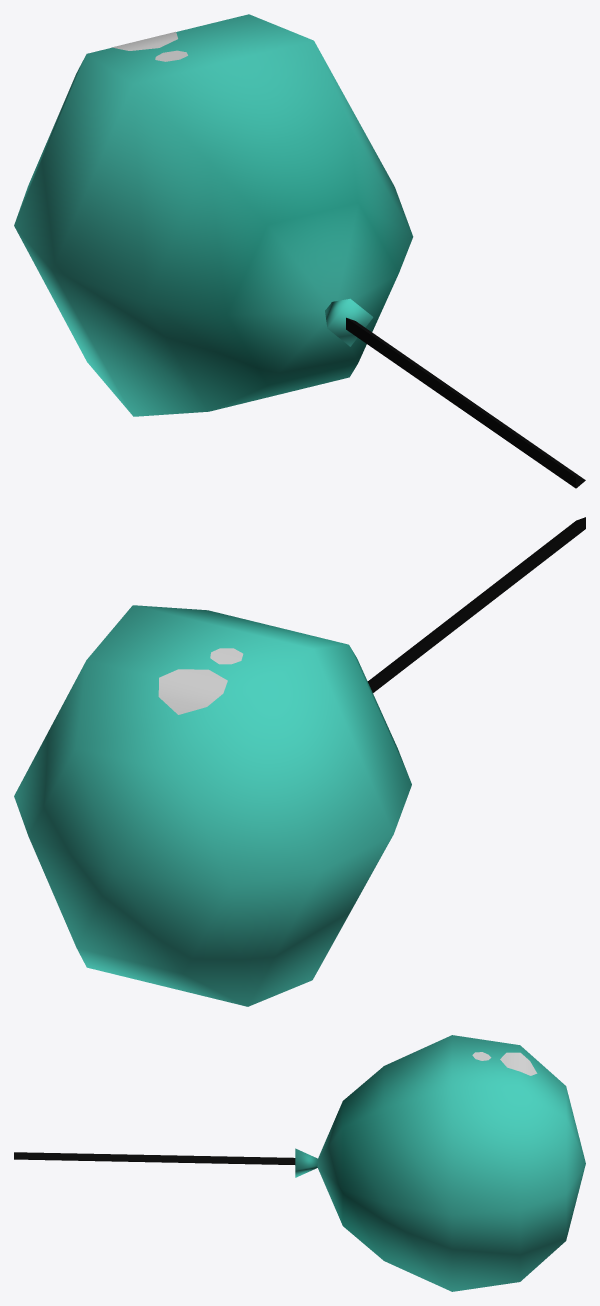
Rendered from cyanBaloon.fbx.
3 renders of one model, top to bottom at view 1: azimuth 30°, elevation 25°; view 2: azimuth 150°, elevation 25°; view 3: azimuth 270°, elevation 25°, orthographic. The views are drawn at different scales.
Parts seen in each view (by area): view 1: cyanBaloon; view 2: cyanBaloon; view 3: cyanBaloon.
Part boxes in pixels (x1,y1,x2,y2): cyanBaloon: (14, 14, 585, 488); cyanBaloon: (14, 517, 585, 1006); cyanBaloon: (14, 1035, 585, 1291).
Bounding box in the file's own units: 54.73 × 50.71 × 129.
